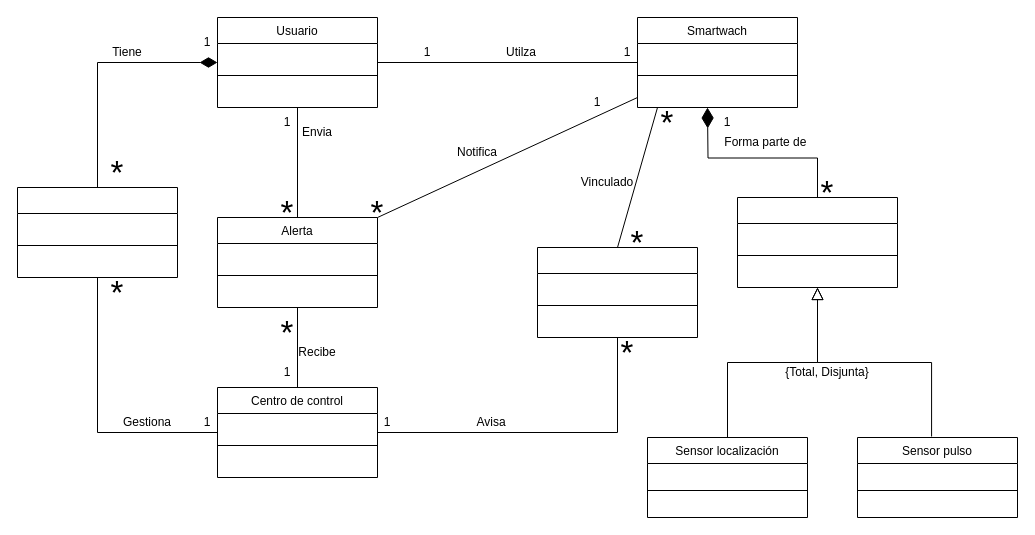
The diagram is 1035 pixels wide and 535 high, and some of its shapes have lost their labels. Here are the shapes that lost their labels. From the top down, the box of each, then its label:
(16, 186, 178, 278): Cuenta
(736, 196, 898, 288): Sensor
(536, 246, 698, 338): Movil
